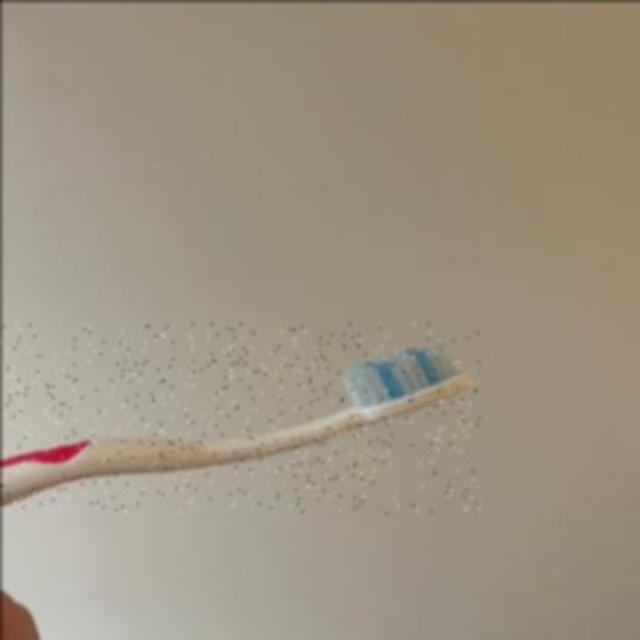toothbrush: (0, 323, 478, 513)
